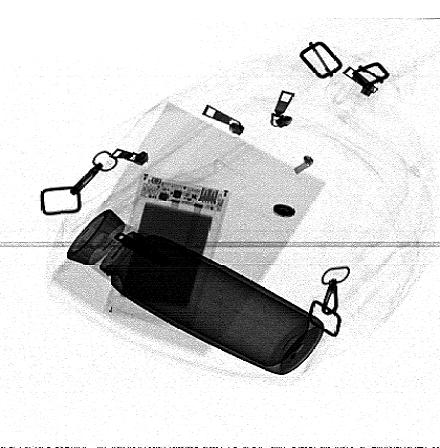Powerbank: (105, 172, 232, 333)
